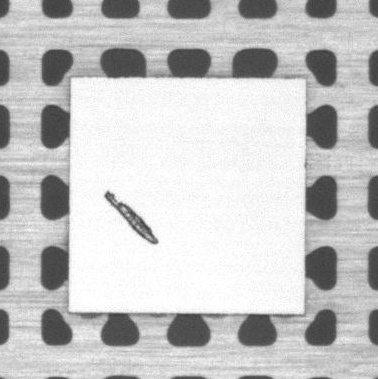DIE_INK: (103, 191, 159, 245)
